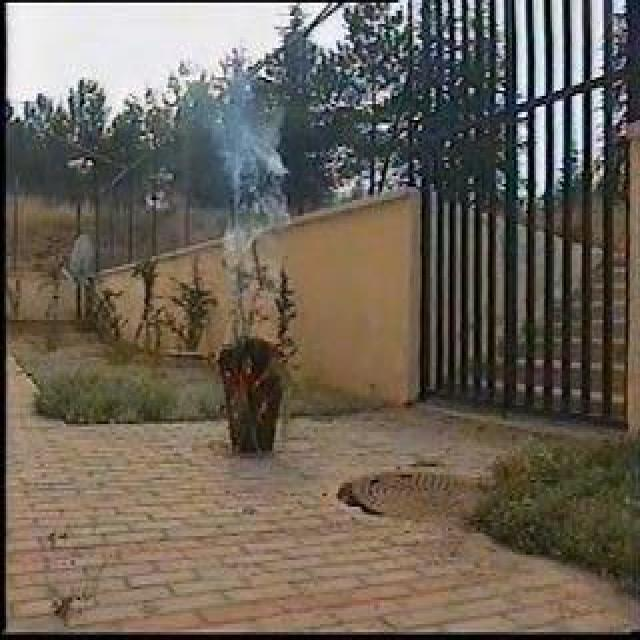smoke: (216, 77, 286, 275)
